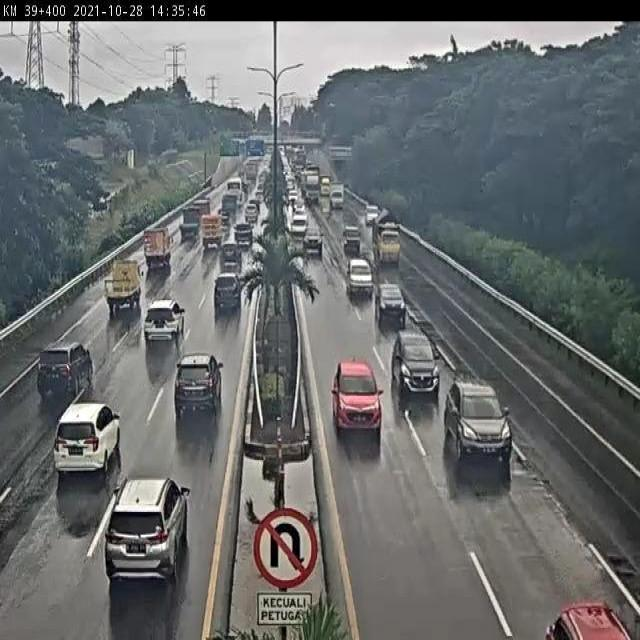car: (103, 473, 211, 592), (50, 396, 138, 492), (440, 370, 513, 478), (159, 363, 223, 448), (536, 588, 630, 640), (36, 343, 97, 421), (334, 358, 386, 438), (390, 327, 439, 405), (138, 295, 187, 357), (208, 265, 246, 319), (342, 250, 376, 306), (375, 280, 408, 332), (217, 240, 246, 276), (302, 231, 324, 265), (231, 219, 255, 248), (340, 227, 365, 250)
small bus: (196, 214, 224, 258)
small truck: (100, 257, 149, 316), (138, 222, 178, 286), (365, 207, 402, 264), (170, 198, 204, 245), (327, 180, 349, 212)
